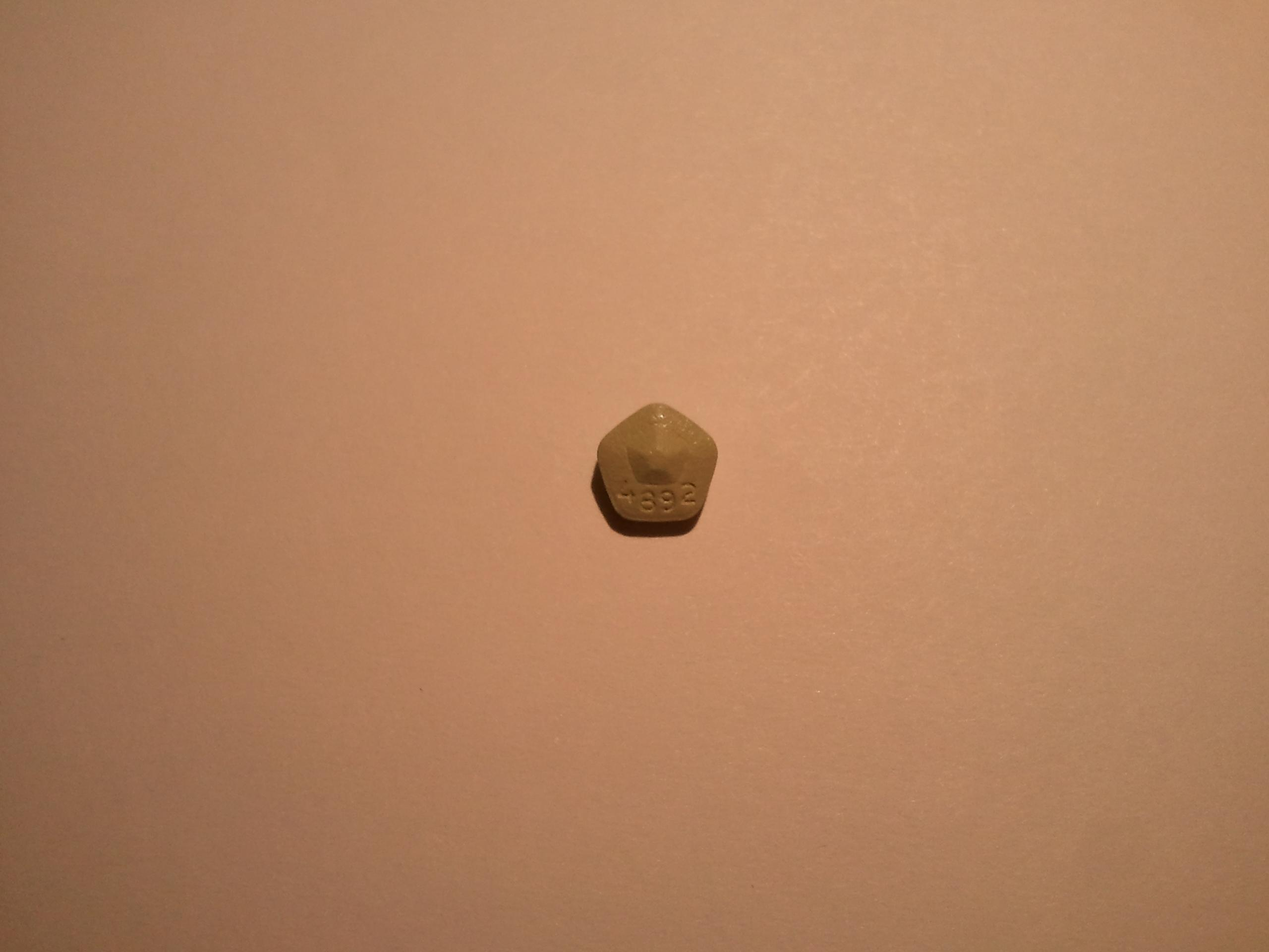Pill: (588, 393, 725, 531)
